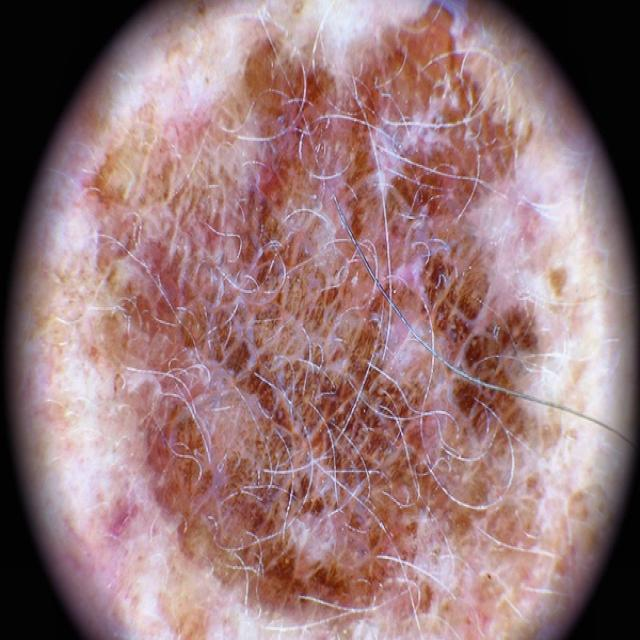Benign-Keratosis-like-Lesions-BKL-: (84, 48, 565, 620)
